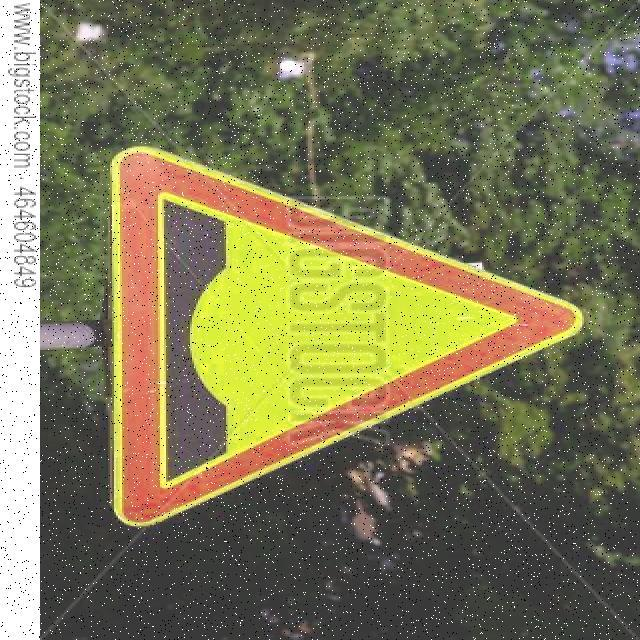Traffic sign: (104, 134, 588, 536)
